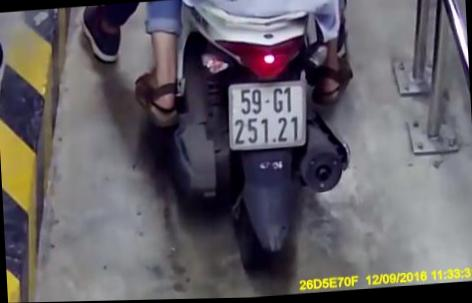LP: (224, 77, 310, 153)
